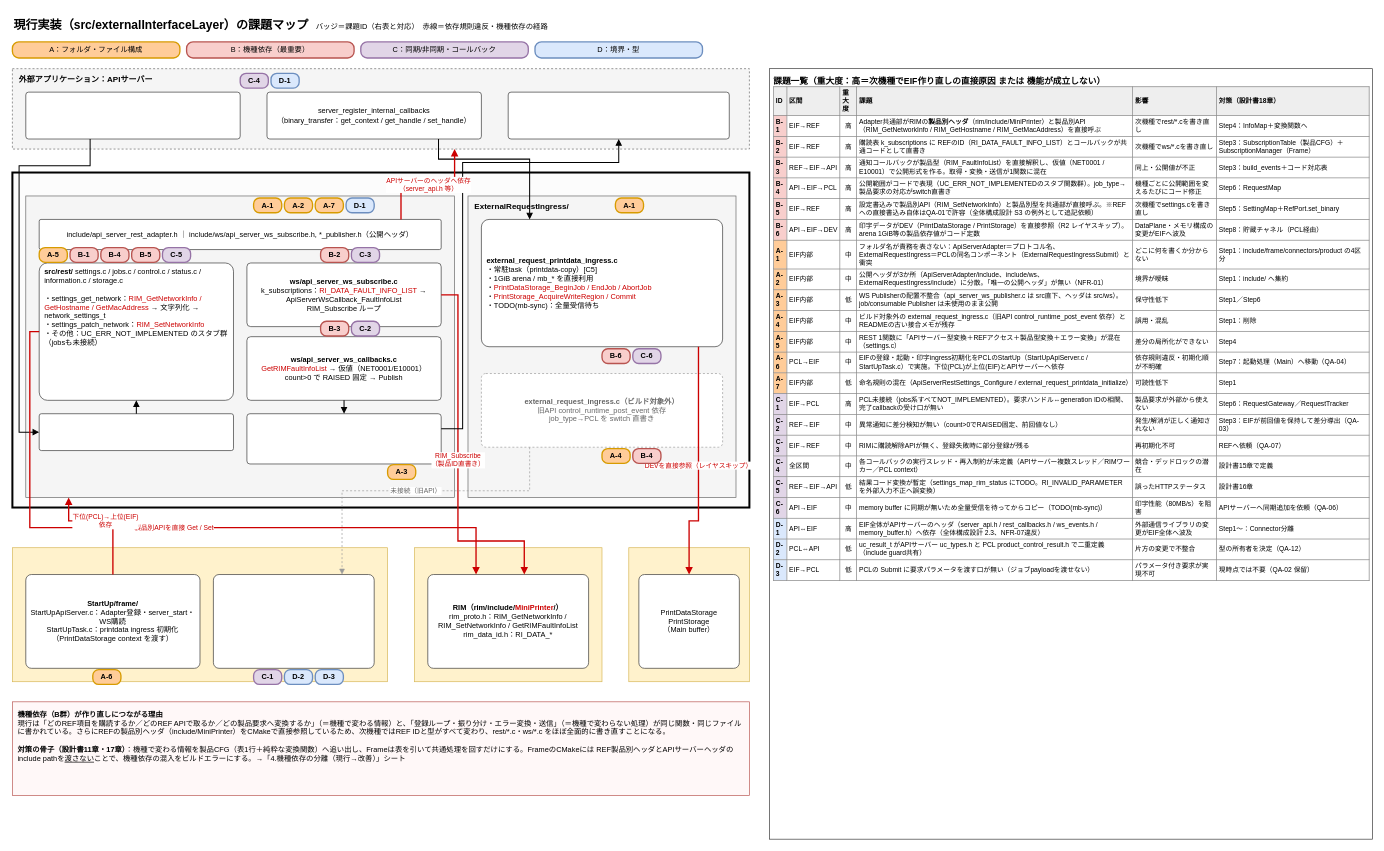
Some shapes in this 1384 by 851 pixel diagram are drawn without their labels. The shapes that lost their labels are listed below. From the top down, each one's box as (x1, y1, x2, y2) in pixels, then its label:
(25, 91, 240, 139): REST処理 server_rest_callbacks_t を呼ぶ [C2]
(508, 91, 729, 139): server_ws_emit_event()
(25, 195, 455, 497): ApiServerAdapter/
(11, 171, 750, 508): src/externalInterfaceLayer（現行）
(39, 413, 233, 451): api_server_rest_adapter.c 各 *_Configure を集約 → server_rest_register_callbacks
(246, 413, 441, 464): ws/*_publisher.c ＋ src/api_server_ws_publisher.c （job / consumable は未使用）
(12, 547, 388, 682): productControlLayer（PCL）
(213, 574, 374, 668): RequestControl ExternalRequestIngressSubmit() （完了callbackに利用者context無し） EIFから未接続
(414, 547, 602, 682): referenceServiceLayer（REF）
(628, 547, 749, 682): DEV / RSC
